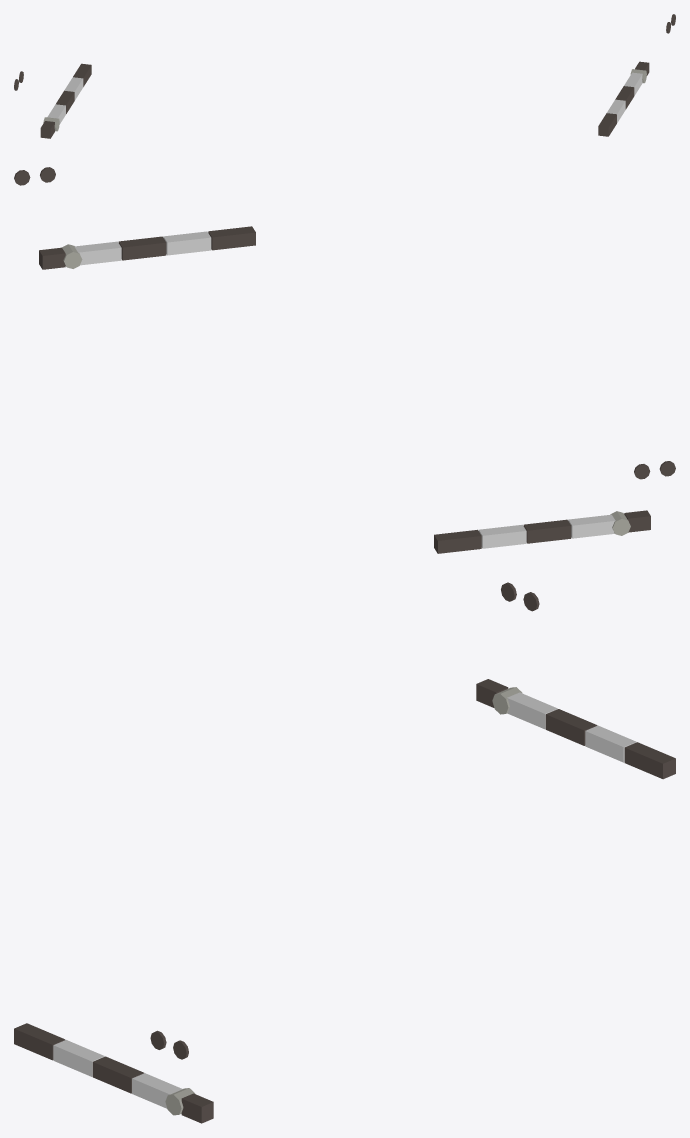
File: SM_PasoNivel_45_v0_Teja_LOD1.fbx
3 views of the same model, one above another, from view 1: azimuth 30°, elevation 25°; view 2: azimuth 150°, elevation 25°; view 3: azimuth 270°, elevation 25° (orthographic). The views are drawn at different scales.
Parts seen in each view (by area): view 1: Barrera_1, Barrera_2; view 2: Barrera_2, Barrera_1; view 3: Barrera_1, Barrera_2.
Part boxes in pixels (left/top/right/bottom): Barrera_1: left=598, top=61, right=649, bottom=136; Barrera_2: left=40, top=63, right=91, bottom=138; Barrera_2: left=434, top=510, right=650, bottom=553; Barrera_1: left=39, top=226, right=255, bottom=269; Barrera_1: left=14, top=1023, right=213, bottom=1123; Barrera_2: left=476, top=679, right=675, bottom=779.
Size of what is drawn, in the model's own units: 19.26 by 1.91 by 11.6.
